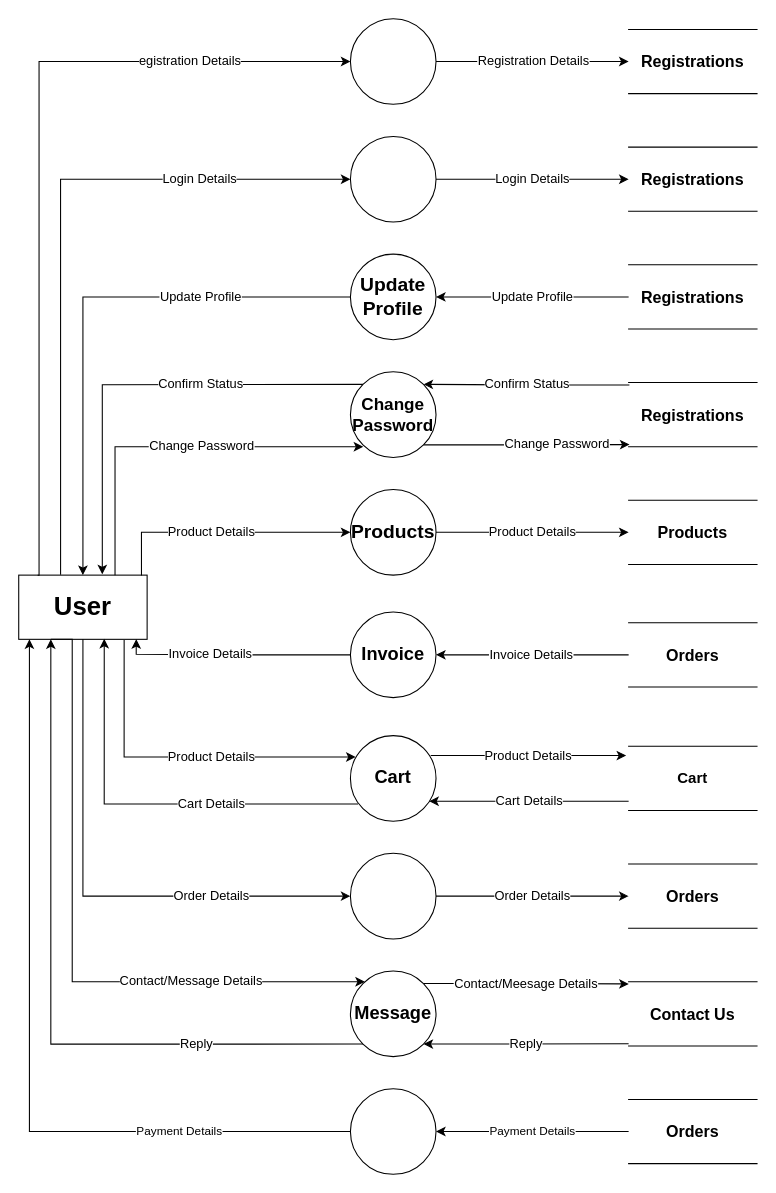
Image size: 776x1193. Some labels were removed from this diagram. The shapes that lost their labels are listed below. From the top down, each one's box as (x1, y1, x2, y2) in pixels, then its label:
(349, 18, 436, 104): Registration
(349, 135, 436, 222): Login
(349, 852, 436, 939): Order
(349, 1088, 436, 1174): Payment
